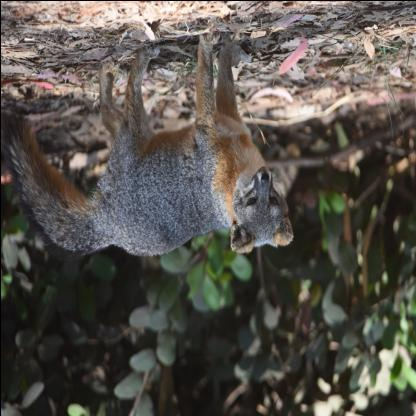zorro: (1, 27, 298, 265)
